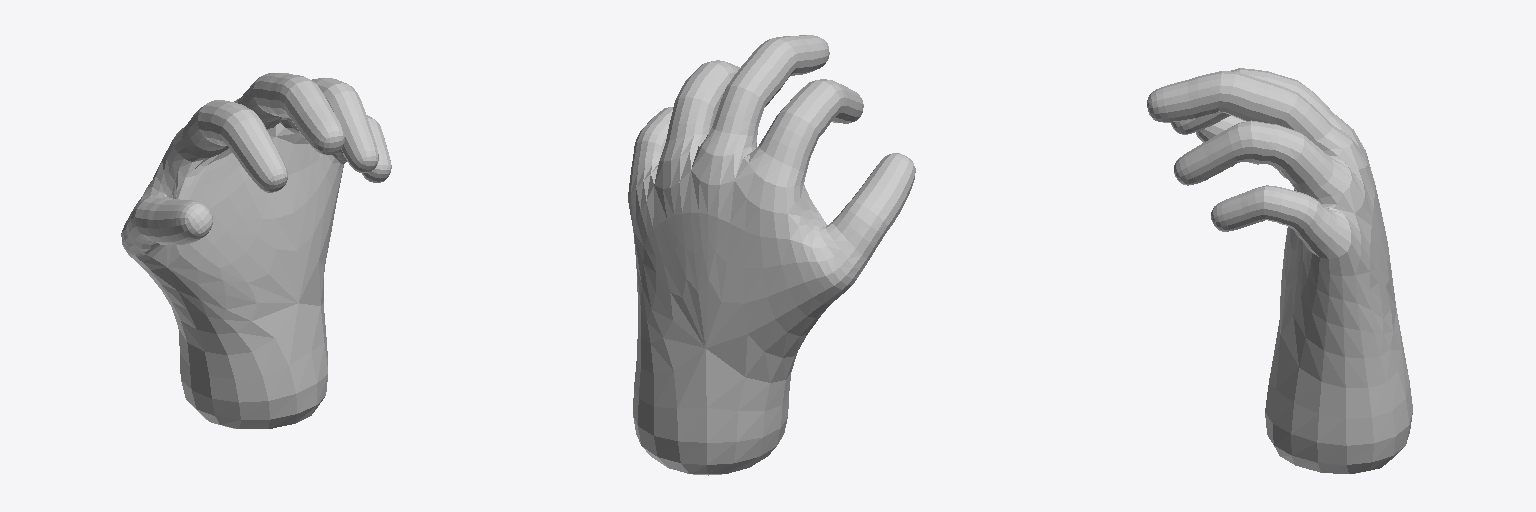
Rendered from handanimatsion33.obj.
3 renders of one model, left to right at view 1: azimuth 30°, elevation 25°; view 2: azimuth 150°, elevation 25°; view 3: azimuth 270°, elevation 25°, orthographic.
Parts seen in each view (by area): view 1: Cube; view 2: Cube; view 3: Cube.
Part boxes in pixels (x1,y1,x2,y2): Cube: (121,73,391,428); Cube: (628,35,915,475); Cube: (1147,68,1412,473).
Bounding box in the file's own units: 3.29 × 5.04 × 3.17.